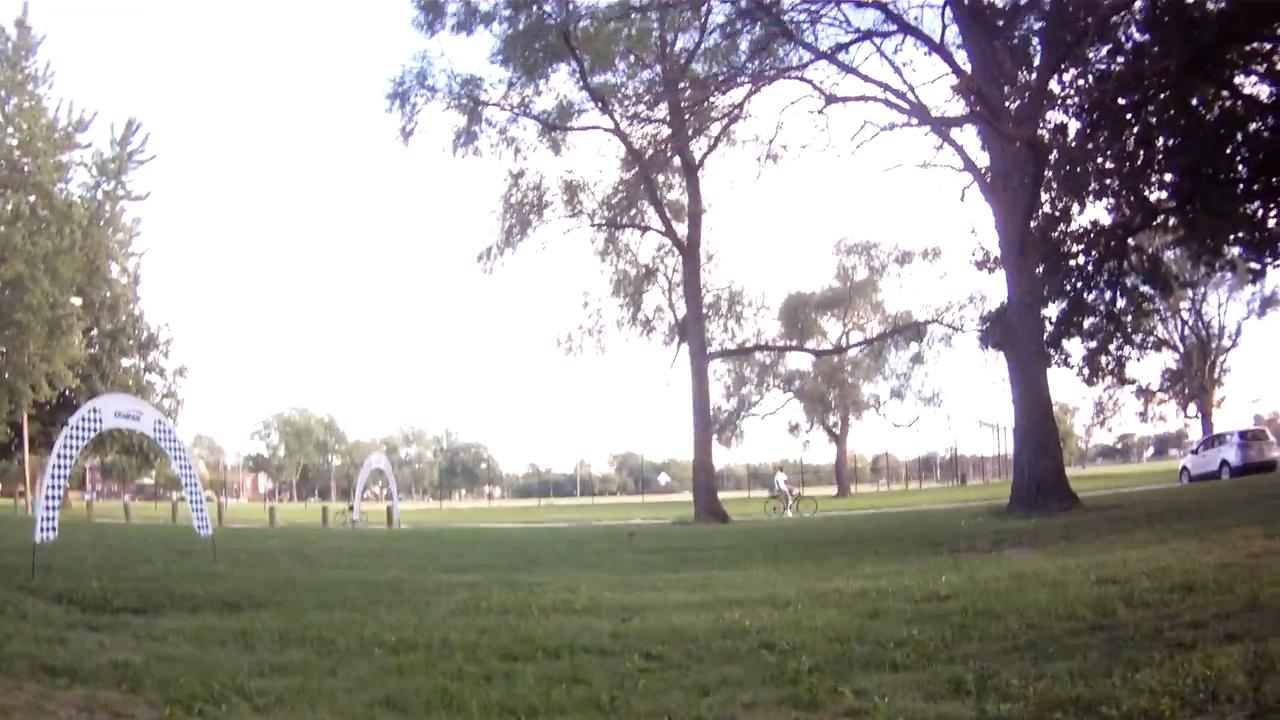gate: (32, 389, 212, 548)
